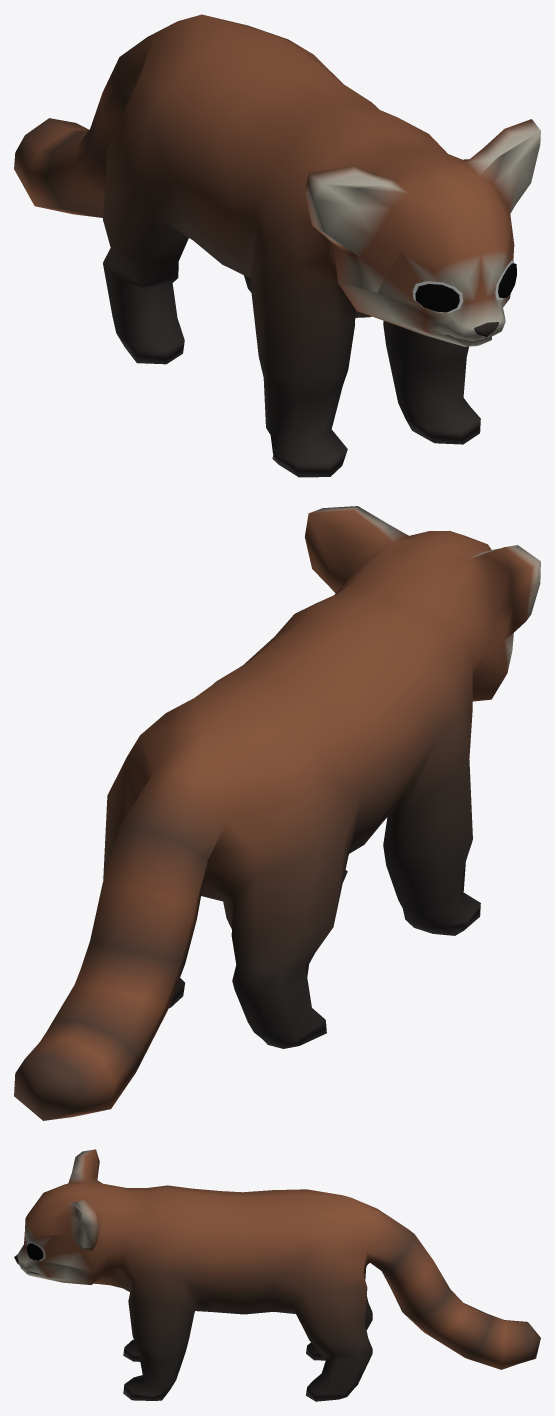
Rendered from animals-animals-redpanda_v1.glb.
The picture shows the model from 3 angles, top to bottom: view 1: azimuth 30°, elevation 25°; view 2: azimuth 150°, elevation 25°; view 3: azimuth 270°, elevation 25°; orthographic projection. The views are drawn at different scales.
Visible parts, largest first — view 1: RedPanda.001; view 2: RedPanda.001; view 3: RedPanda.001.
Part boxes in pixels (box(x1,y1,x2,y2)): RedPanda.001: box(14, 14, 540, 477); RedPanda.001: box(14, 506, 540, 1120); RedPanda.001: box(14, 1149, 540, 1401).
Bounding box in the file's own units: 0.2698 × 0.3854 × 0.9334.
